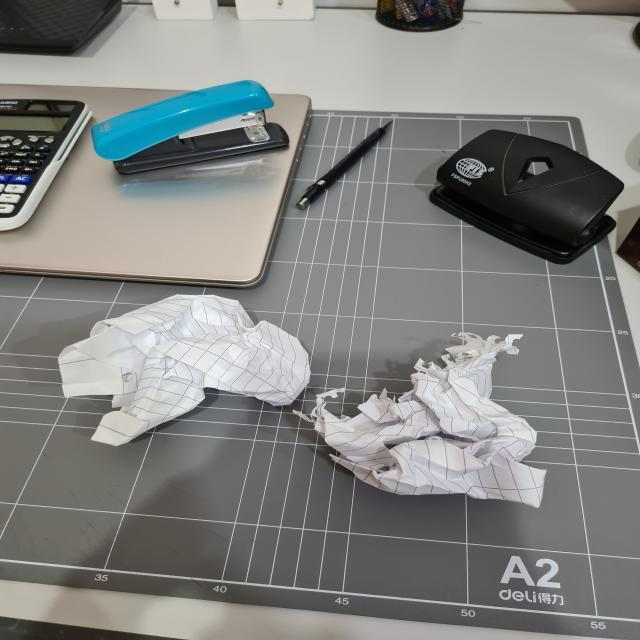Paper: (305, 334, 548, 511), (60, 298, 322, 450)
